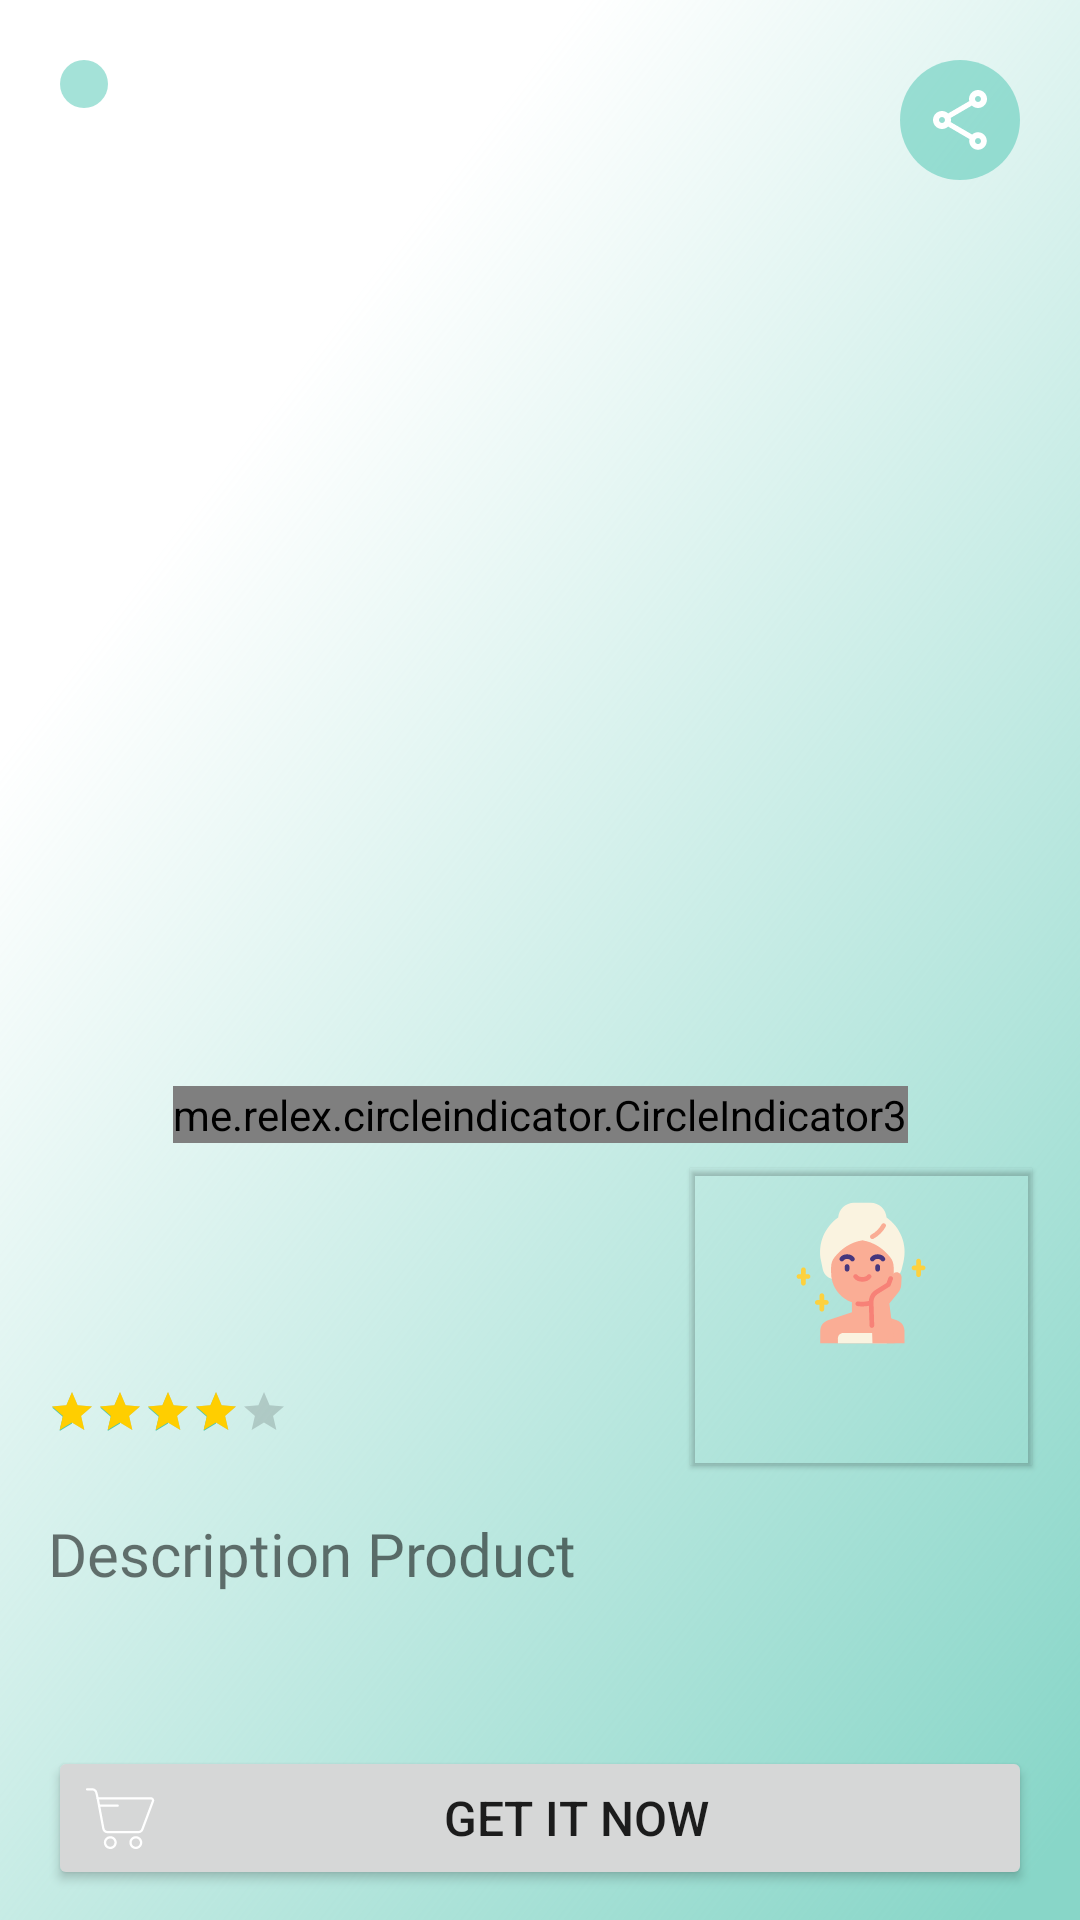

Where to tap for icons on this 1080x1920 app screen, as [x,y]:
share: [960,120]
